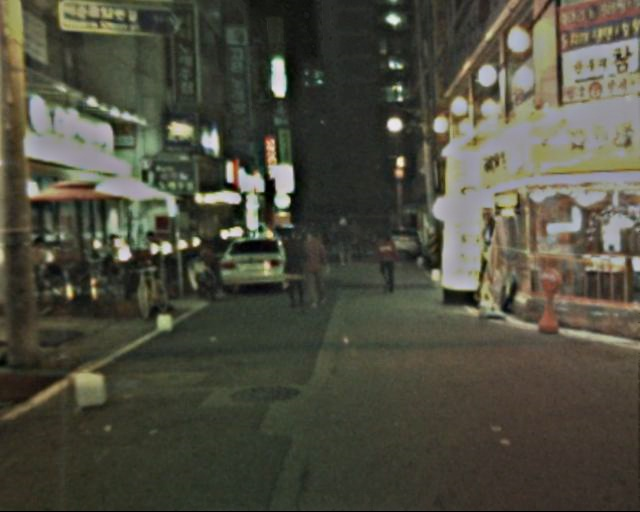person: (301, 225, 336, 314), (279, 226, 314, 315), (371, 225, 403, 300), (334, 218, 355, 270), (353, 225, 367, 262)
